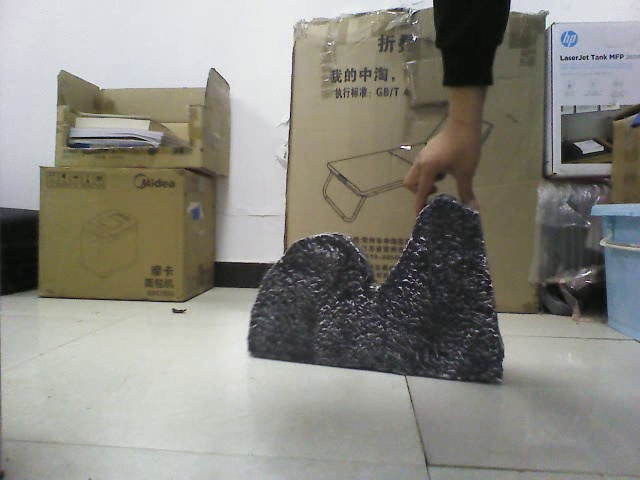rock: (243, 195, 514, 387)
